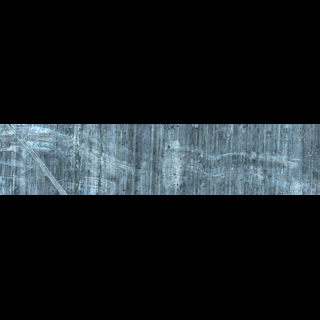d: (161, 153, 304, 186), (2, 127, 71, 195), (73, 146, 146, 195), (157, 136, 191, 188)
